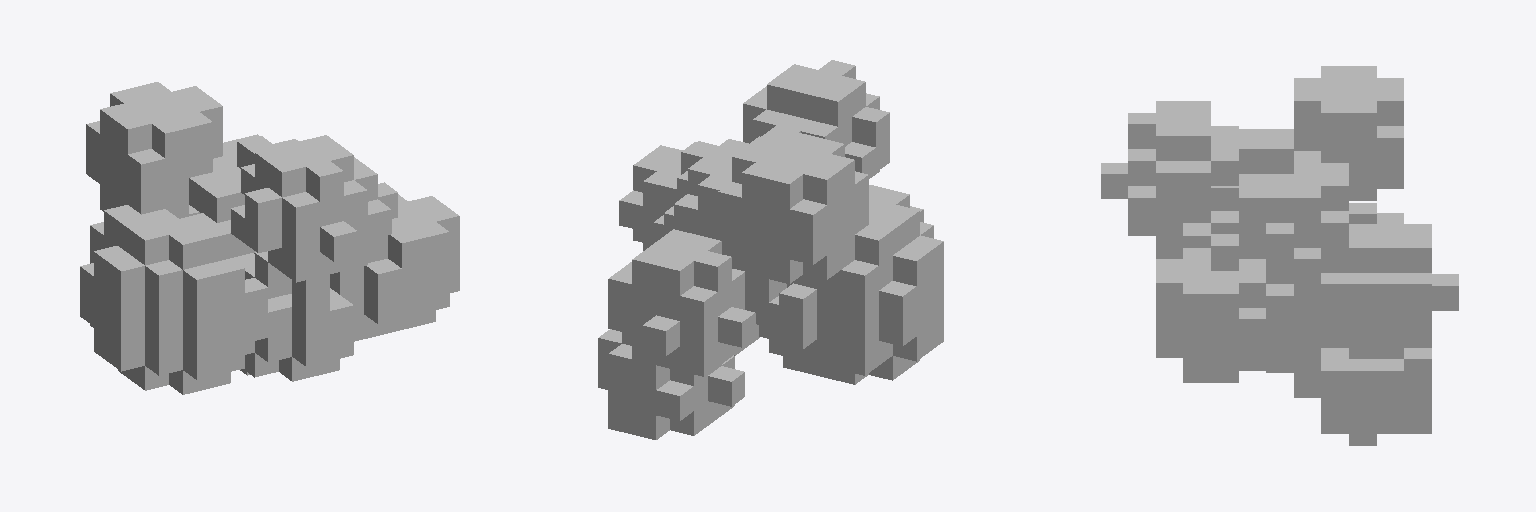
Rendered from coolcube.obj.
3 views of the same model, side by side, from view 1: azimuth 30°, elevation 25°; view 2: azimuth 150°, elevation 25°; view 3: azimuth 270°, elevation 25° (orthographic).
Visible parts, largest first — view 1: Icosphere.008; view 2: Icosphere.008; view 3: Icosphere.008.
Boxes of the visible parts, x1=… form: Icosphere.008: x1=80, y1=82, x2=459, y2=394; Icosphere.008: x1=598, y1=60, x2=943, y2=439; Icosphere.008: x1=1101, y1=66, x2=1458, y2=445.
Bounding box in the file's own units: 10.73 × 9.08 × 10.73.